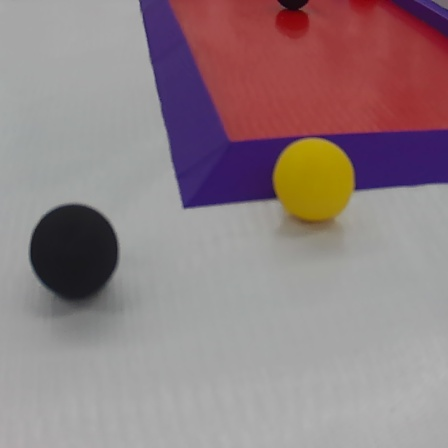black: (28, 202, 124, 302)
red_aim: (128, 2, 448, 215)
yellow: (273, 133, 356, 226)
